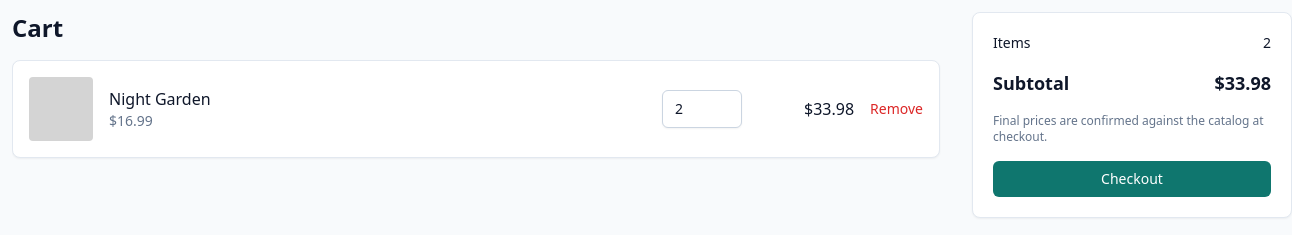
Scenario: removes a line
Click the button "Remove" at coordinates (897, 109), box [870,99,923,119]
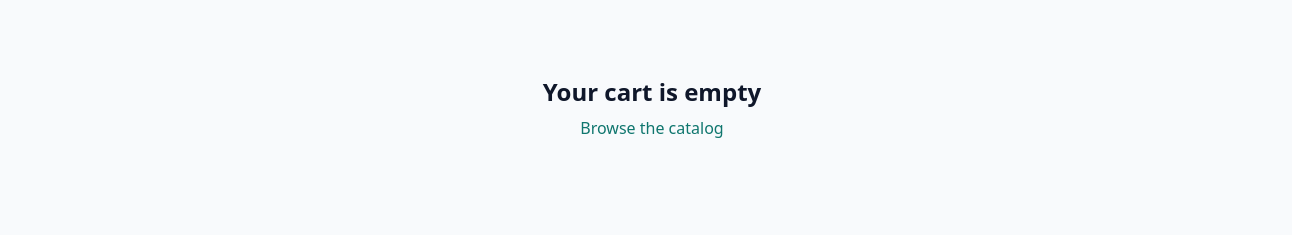
Now the heading "Your cart is empty" is shown, box [543,75,761,108]
